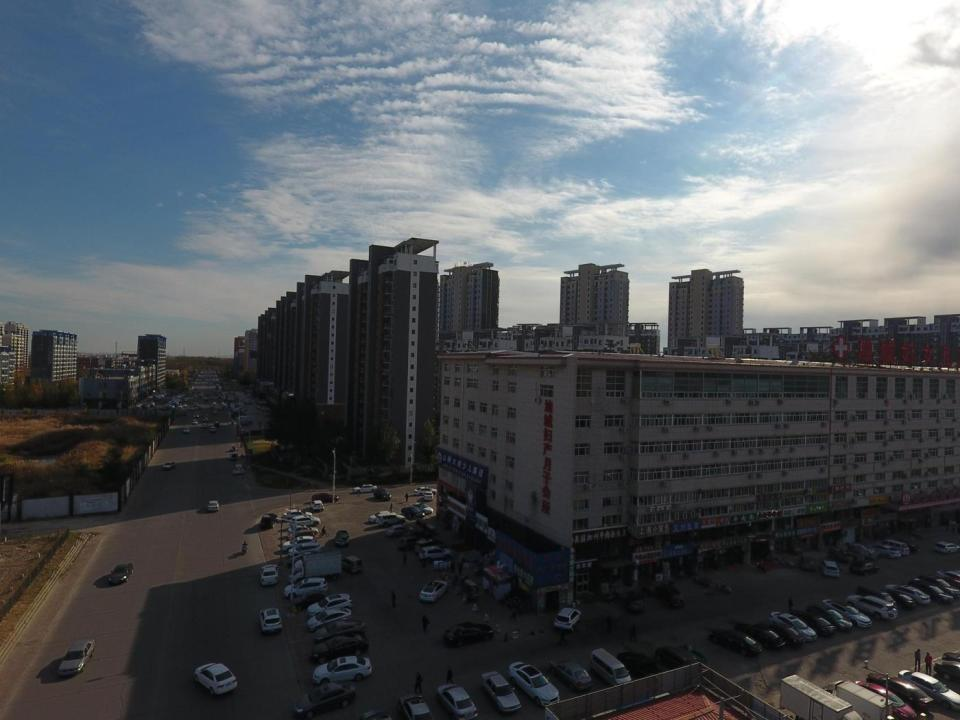bus: (215, 384, 219, 389)
car: (895, 669, 960, 710), (851, 681, 917, 720), (867, 673, 934, 710), (293, 680, 356, 718), (509, 662, 559, 707), (309, 632, 368, 662), (313, 656, 372, 685), (480, 672, 520, 712), (437, 683, 478, 719), (820, 600, 872, 628), (312, 618, 366, 644), (769, 612, 817, 641), (709, 628, 762, 654), (736, 621, 785, 649), (58, 639, 95, 676), (195, 663, 237, 695), (550, 660, 592, 691), (806, 603, 852, 631), (917, 573, 960, 602), (444, 623, 493, 648), (847, 595, 897, 619), (791, 610, 836, 636), (654, 646, 697, 673), (309, 593, 353, 619), (759, 620, 804, 644), (908, 580, 953, 604), (308, 608, 352, 632), (398, 693, 435, 720), (872, 587, 917, 609), (284, 577, 328, 599), (883, 584, 931, 604), (290, 590, 333, 610), (655, 585, 684, 609), (934, 570, 960, 596), (554, 608, 582, 632), (419, 580, 448, 603), (934, 659, 960, 684), (289, 542, 321, 559), (261, 608, 281, 635), (935, 577, 960, 598), (109, 563, 133, 584), (420, 546, 452, 561), (850, 560, 880, 576), (289, 551, 323, 565), (282, 536, 316, 550), (338, 556, 364, 574), (415, 540, 448, 554), (867, 544, 900, 558), (398, 537, 430, 551), (260, 565, 278, 588), (892, 539, 920, 553), (933, 540, 960, 554), (288, 524, 318, 536), (819, 560, 839, 578), (378, 513, 405, 526), (287, 530, 316, 542), (291, 515, 320, 527), (628, 592, 644, 612), (385, 525, 414, 536), (368, 511, 396, 522), (283, 510, 313, 520), (410, 502, 433, 514), (800, 556, 816, 573), (353, 483, 377, 494), (401, 507, 425, 518), (260, 514, 278, 528), (311, 493, 339, 502), (404, 532, 432, 541), (335, 530, 349, 547), (373, 488, 391, 500), (414, 487, 438, 496), (310, 500, 324, 511), (207, 501, 220, 512), (232, 464, 244, 475), (162, 461, 176, 470), (424, 492, 434, 501), (261, 425, 274, 431), (240, 420, 249, 426), (230, 452, 237, 459), (210, 426, 216, 432), (183, 428, 190, 433), (214, 422, 219, 427), (202, 423, 207, 428), (192, 420, 197, 424), (194, 413, 198, 417), (204, 414, 208, 418), (213, 411, 217, 415), (222, 406, 226, 410), (194, 402, 198, 406), (183, 404, 187, 408), (204, 398, 208, 402), (191, 406, 194, 411), (204, 418, 207, 422), (222, 403, 226, 406), (210, 405, 214, 408), (198, 406, 202, 409), (178, 405, 182, 408), (184, 398, 188, 401), (192, 394, 196, 397), (218, 395, 222, 398), (213, 402, 216, 405), (221, 401, 223, 405), (218, 390, 222, 392), (211, 396, 213, 399)
truck: (779, 674, 865, 720), (819, 680, 893, 720), (289, 551, 342, 583), (617, 651, 663, 682), (236, 416, 253, 423), (175, 408, 186, 415), (198, 393, 203, 398)
van: (592, 648, 632, 687), (856, 584, 897, 608), (874, 539, 910, 555)
